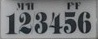character: (33, 10, 48, 34), (48, 10, 63, 34), (17, 11, 32, 34), (63, 10, 77, 34), (77, 10, 91, 34), (6, 12, 17, 35), (25, 1, 34, 10), (16, 1, 24, 10), (66, 1, 74, 9), (75, 1, 81, 9)
